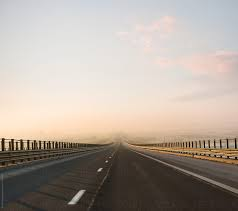strada: (45, 145, 202, 211)
